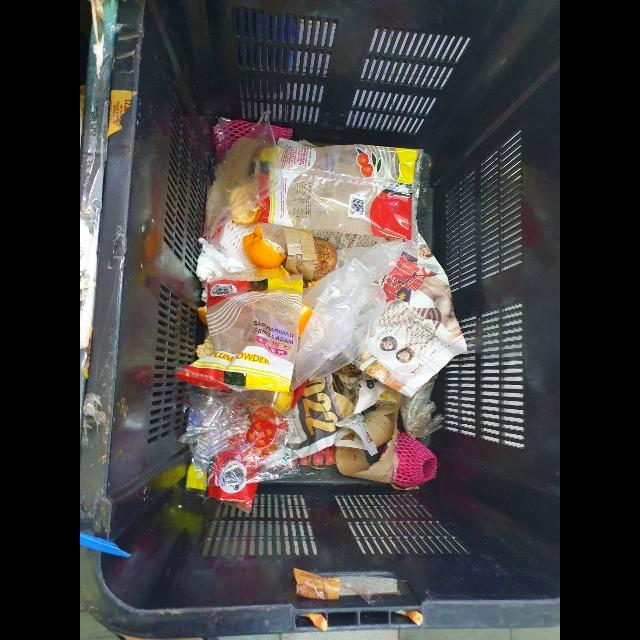food_wrapper: (175, 274, 303, 393), (258, 145, 418, 240)
paper: (362, 242, 467, 399), (290, 375, 378, 458), (195, 238, 246, 282)
plastic_bag: (291, 240, 406, 391)
